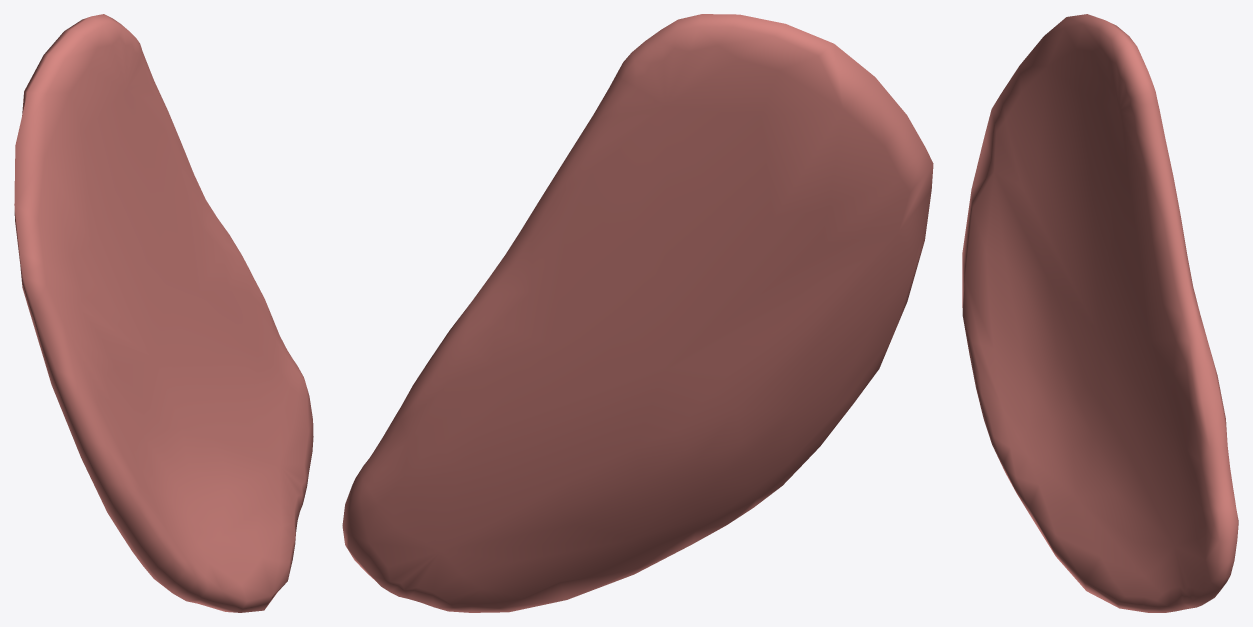
3 renders of one model, left to right at view 1: azimuth 30°, elevation 25°; view 2: azimuth 150°, elevation 25°; view 3: azimuth 270°, elevation 25°, orthographic. The views are drawn at different scales.
Visible parts, largest first — view 1: ZA_98c341dc6b3e8fdc; view 2: ZA_98c341dc6b3e8fdc; view 3: ZA_98c341dc6b3e8fdc.
Part boxes in pixels (x1,y1,x2,y2): ZA_98c341dc6b3e8fdc: (14,14,313,612); ZA_98c341dc6b3e8fdc: (342,14,933,612); ZA_98c341dc6b3e8fdc: (962,14,1238,612).
Bounding box in the file's own units: 0.00657 × 0.00907 × 0.00452.
